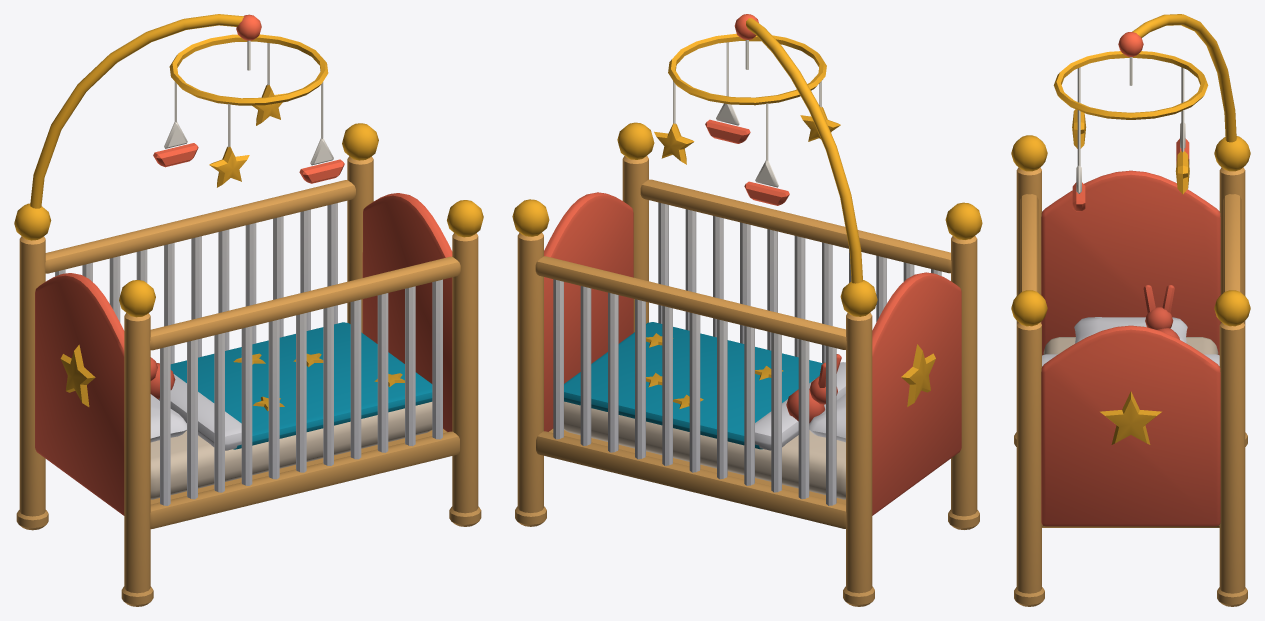
Rendered from crib.glb.
The picture shows the model from 3 angles, left to right: view 1: azimuth 30°, elevation 25°; view 2: azimuth 150°, elevation 25°; view 3: azimuth 270°, elevation 25°; orthographic projection. The views are drawn at different scales.
Visible parts, largest first — view 1: crib; view 2: crib; view 3: crib.
Part boxes in pixels (<box>): crib: <box>14,14,483,606</box>; crib: <box>512,14,982,606</box>; crib: <box>1011,14,1250,606</box>.
Bounding box in the file's own units: 1.42 × 1.93 × 0.85.
